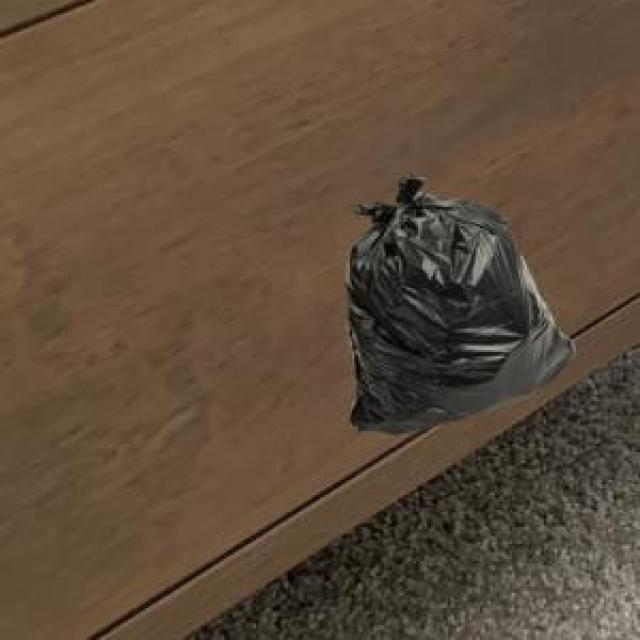waste: (349, 176, 571, 431)
